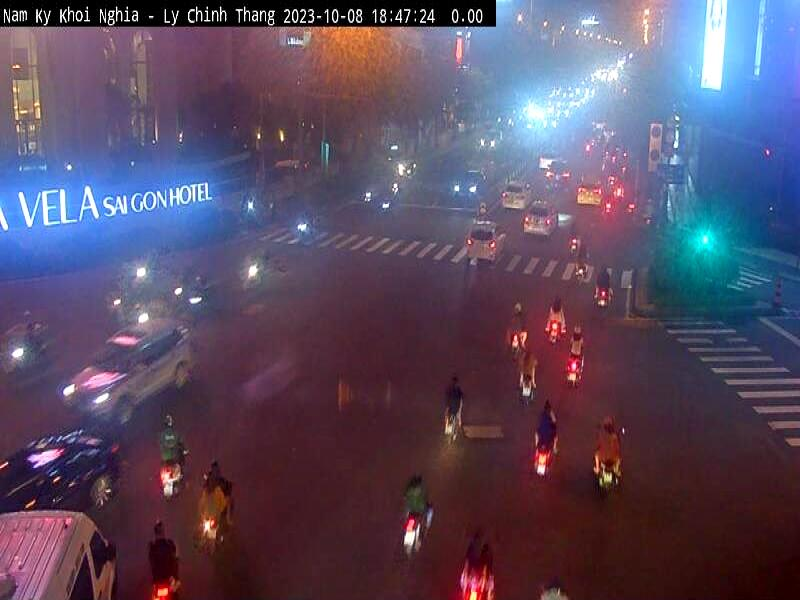car: (53, 310, 210, 423), (460, 215, 505, 271)
